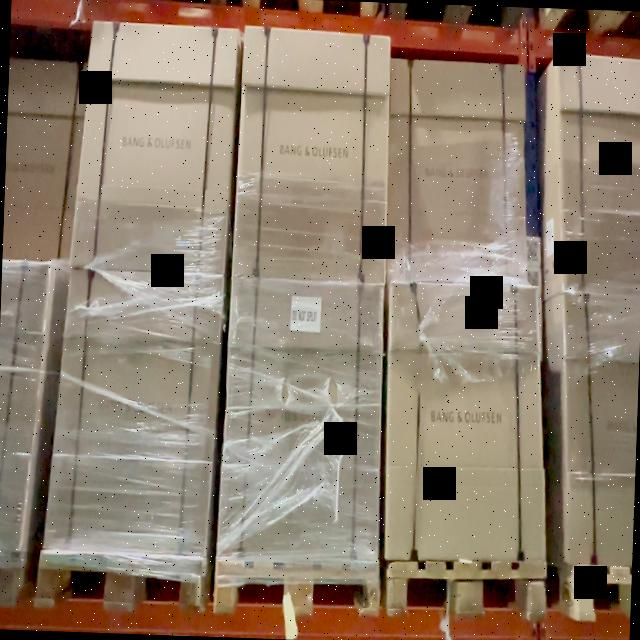box: (42, 270, 223, 561), (384, 285, 547, 562), (222, 278, 382, 556), (68, 19, 239, 276), (236, 26, 392, 282)
